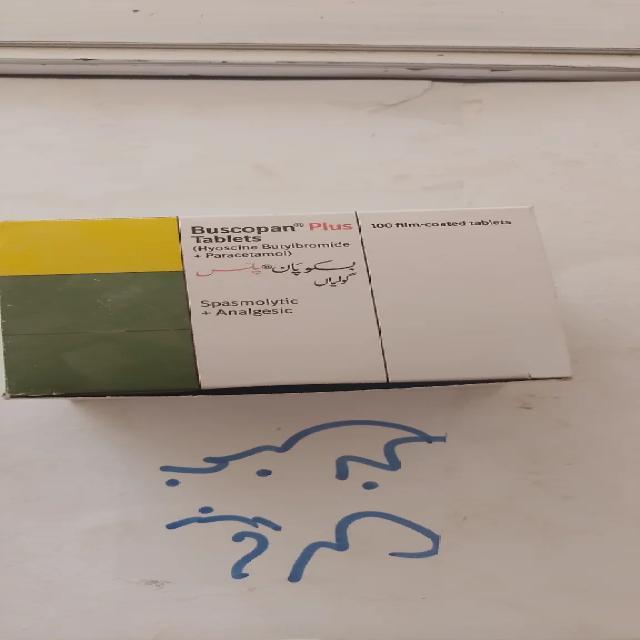drug-name: (191, 220, 357, 233)
